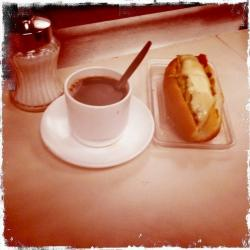hotdog: (153, 45, 231, 151)
